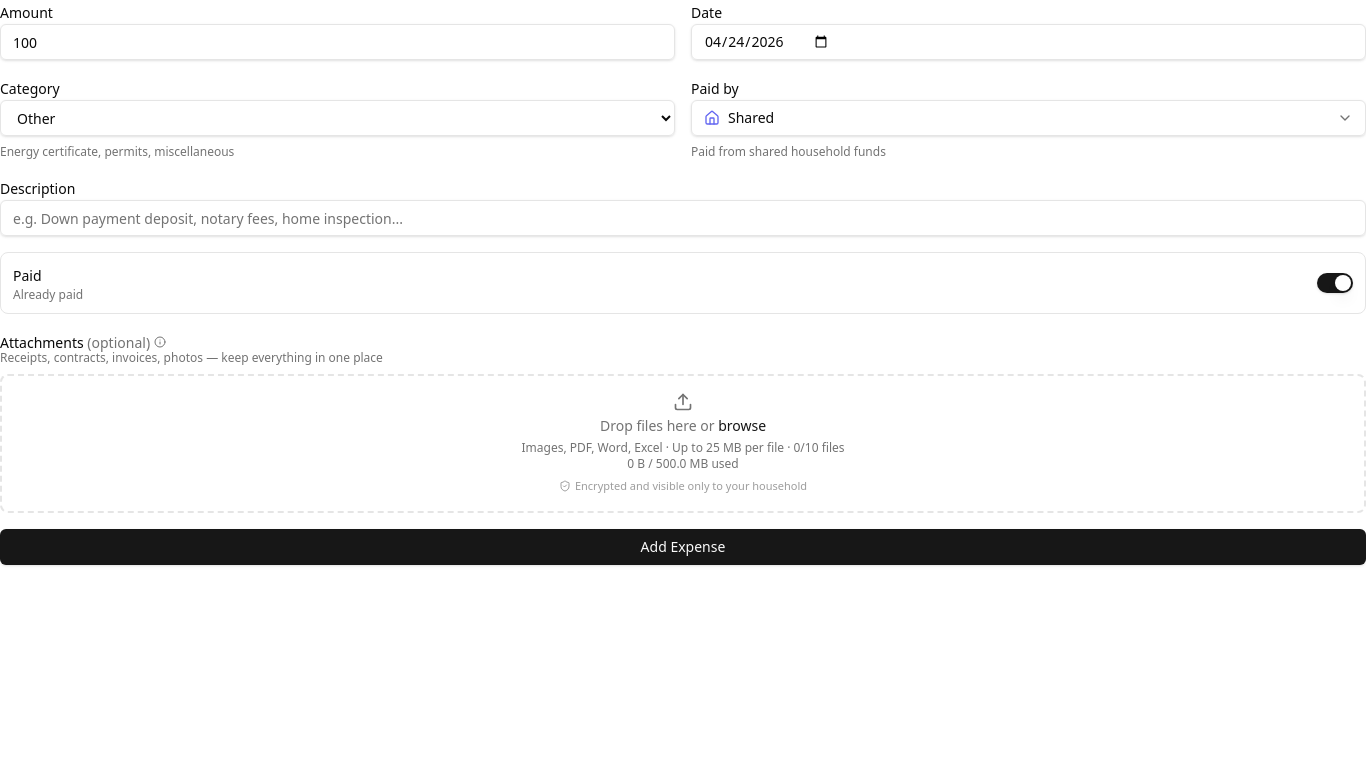
Test: ExpenseForm split chip › auto-opens the split editor on first pick of Split payment
The width and height of the screenshot is (1366, 768).
// Pick Split payment
Click the dropdown labelled "Shared". click: (751, 118)
box: [691,100,1365,136]
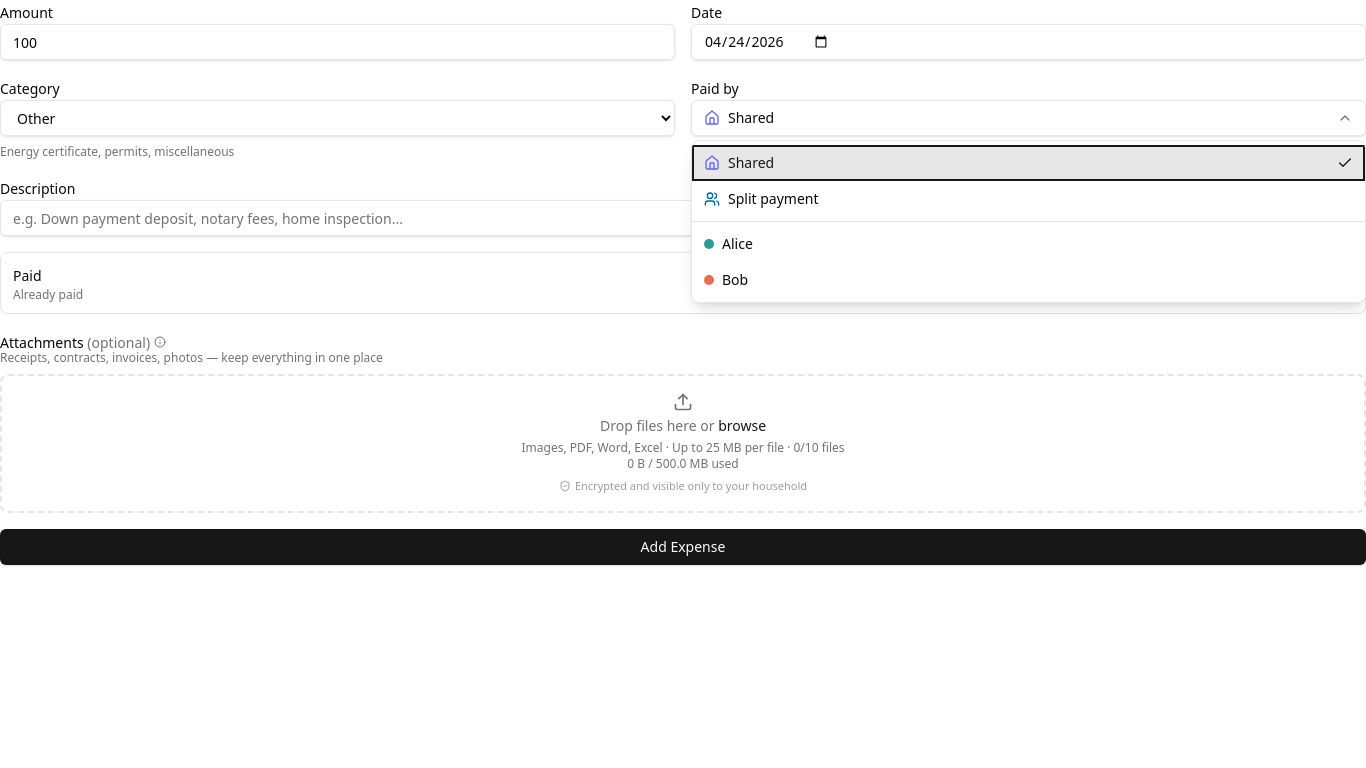
Click the option "Split payment". click: (773, 198)
box: [692,181,1365,217]
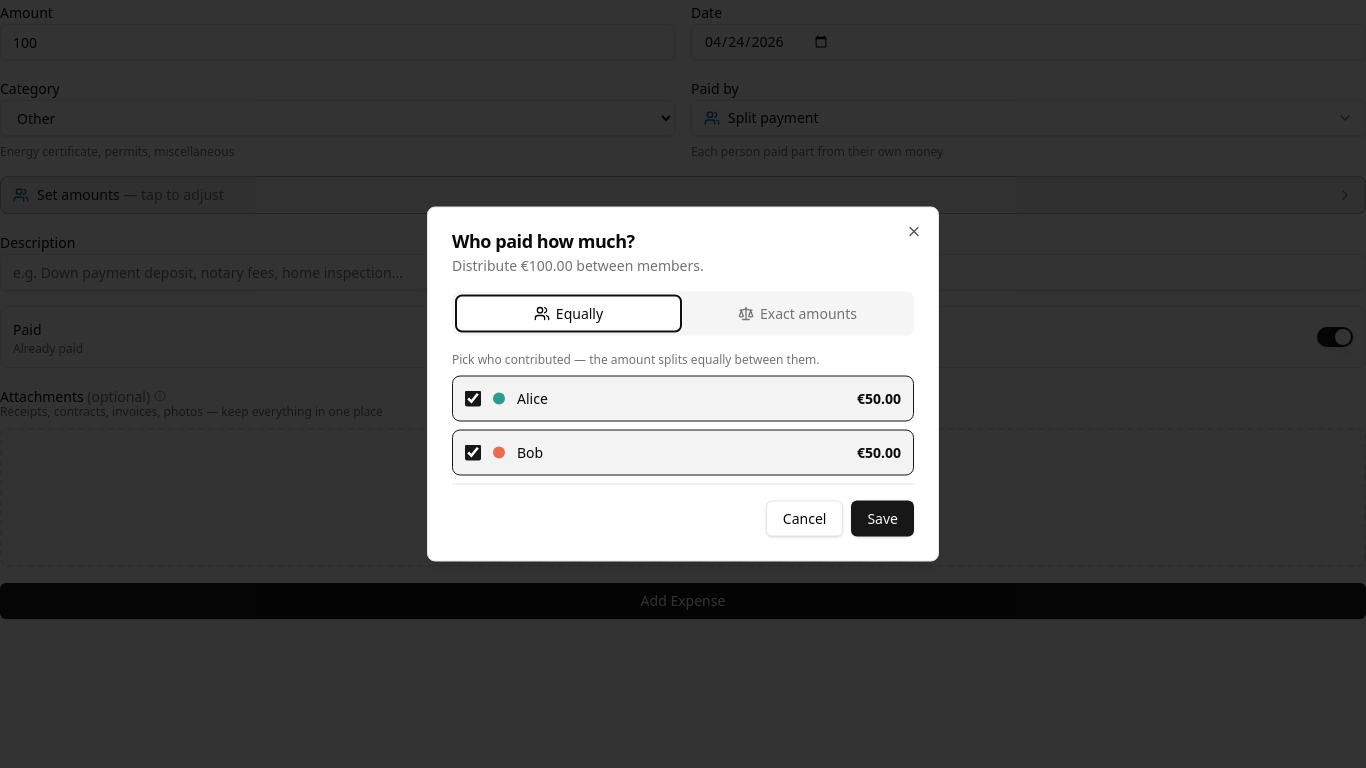
Result: the heading "Who paid how much?" is shown at [452,228,635,252]
